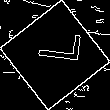L_W: (28, 36, 82, 74)
